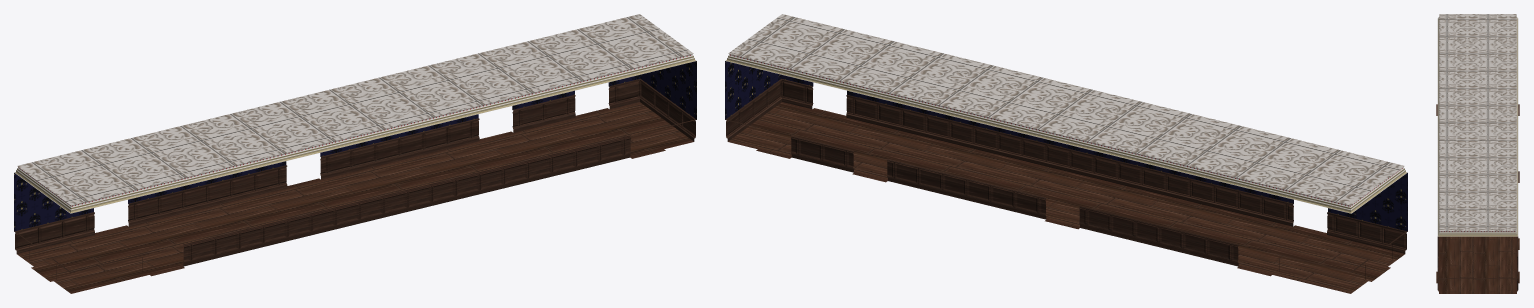
File: Hallway_C_FINAL.fbx
The picture shows the model from 3 angles, left to right: view 1: azimuth 30°, elevation 25°; view 2: azimuth 150°, elevation 25°; view 3: azimuth 270°, elevation 25°; orthographic projection. The views are drawn at different scales.
Parts seen in each view (by area): view 1: Hallway_C; view 2: Hallway_C; view 3: Hallway_C.
Part boxes in pixels (x1,y1,x2,y2): Hallway_C: (14, 14, 696, 293); Hallway_C: (725, 14, 1407, 293); Hallway_C: (1436, 14, 1519, 293).
Size of the model in its own units: 2594 by 348 by 417.
